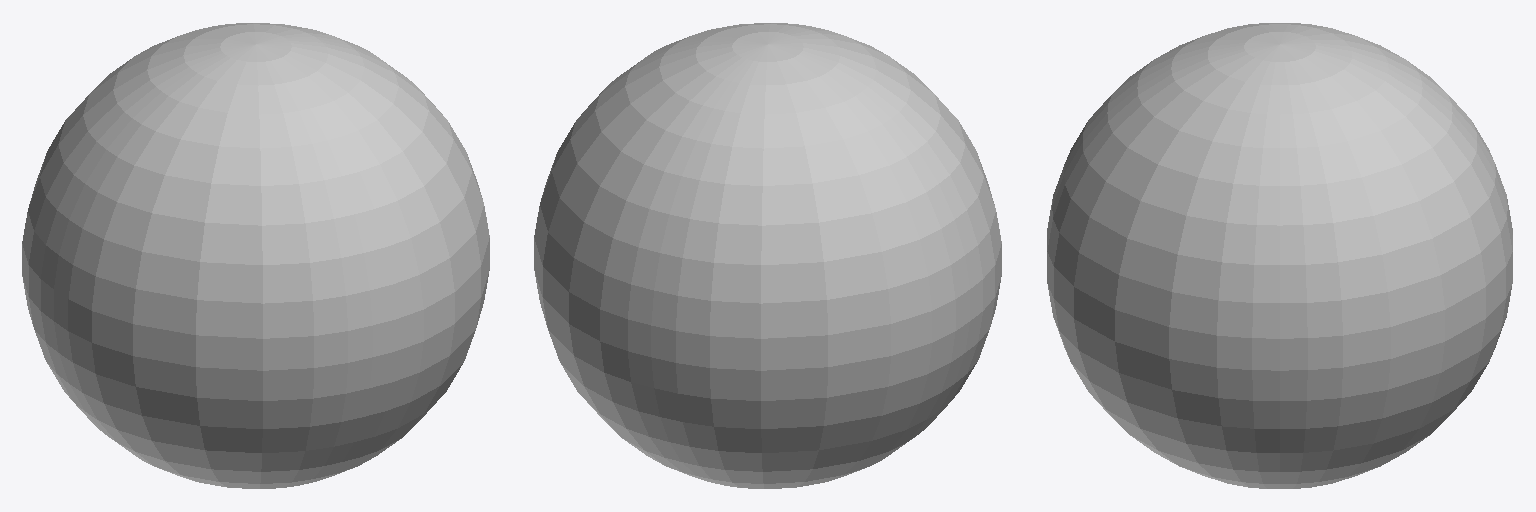
Rendered from ball.obj.
3 renders of one model, left to right at view 1: azimuth 30°, elevation 25°; view 2: azimuth 150°, elevation 25°; view 3: azimuth 270°, elevation 25°, orthographic.
Bounding box in the file's own units: 0.5 × 0.5 × 0.5.